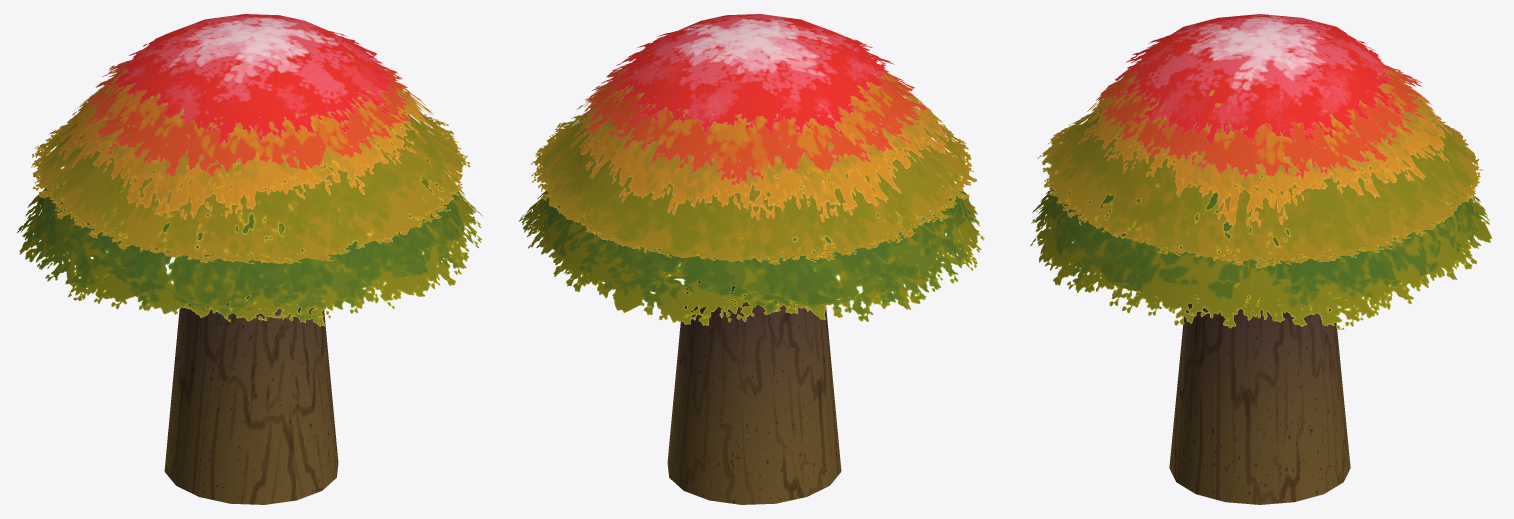
The model's file is Tree4.fbx.
3 renders of one model, left to right at view 1: azimuth 30°, elevation 25°; view 2: azimuth 150°, elevation 25°; view 3: azimuth 270°, elevation 25°, orthographic.
Parts seen in each view (by area): view 1: Circle.001, Circle; view 2: Circle.001, Circle; view 3: Circle.001, Circle.
Boxes of the visible parts, left/top/right/bottom form: Circle.001: left=17, top=14, right=483, bottom=326; Circle: left=164, top=296, right=338, bottom=504; Circle.001: left=518, top=14, right=984, bottom=325; Circle: left=667, top=281, right=841, bottom=504; Circle.001: left=1030, top=14, right=1492, bottom=329; Circle: left=1169, top=292, right=1350, bottom=504.
Size of the model in its own units: 1104 by 1098 by 1104.
